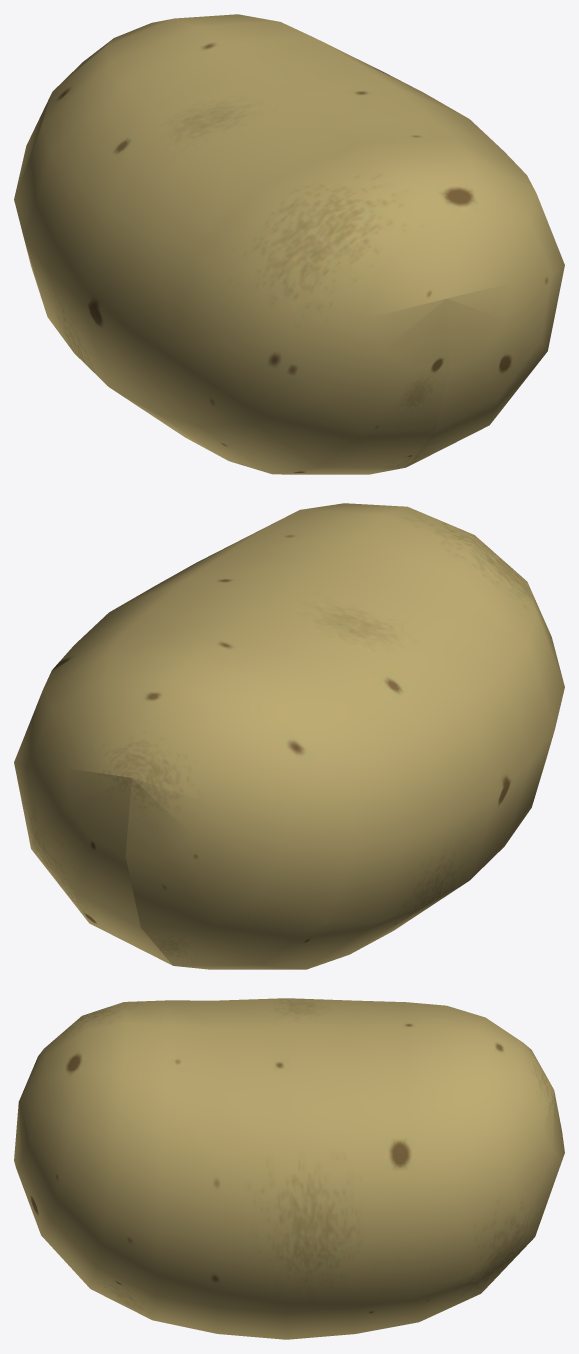
File: Potato.glb
3 views of the same model, one above another, from view 1: azimuth 30°, elevation 25°; view 2: azimuth 150°, elevation 25°; view 3: azimuth 270°, elevation 25° (orthographic). The views are drawn at different scales.
Parts seen in each view (by area): view 1: Potato; view 2: Potato; view 3: Potato.
Part boxes in pixels (bbox=[...]): Potato: bbox=[14, 14, 564, 474]; Potato: bbox=[14, 503, 564, 969]; Potato: bbox=[14, 998, 564, 1339].
Bounding box in the file's own units: 0.6985 × 0.5553 × 0.9407.
Materials: 1 (1 with a texture image).
